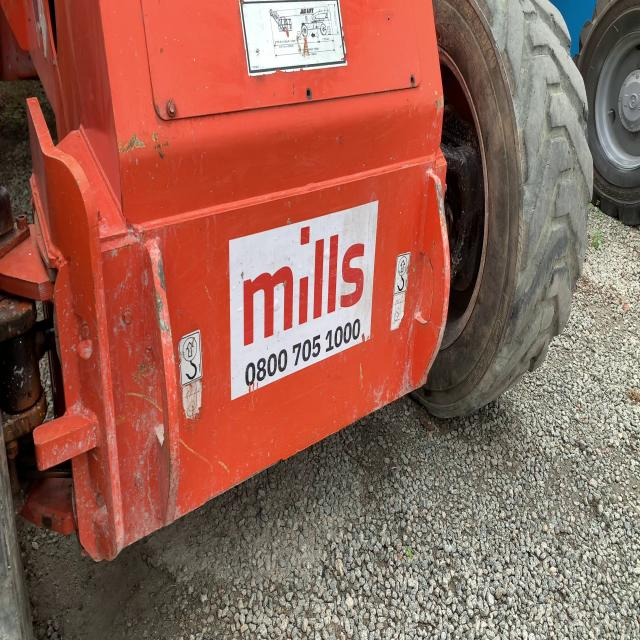Adesivos: (223, 196, 380, 403)
